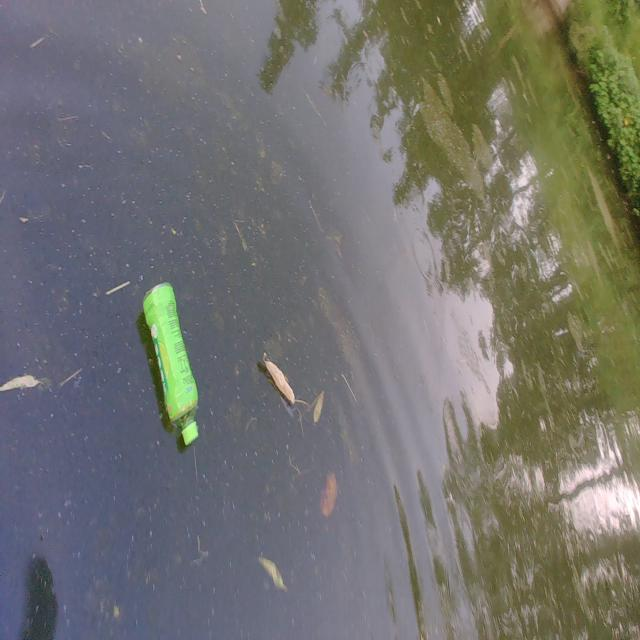Bottle: (139, 277, 202, 449)
